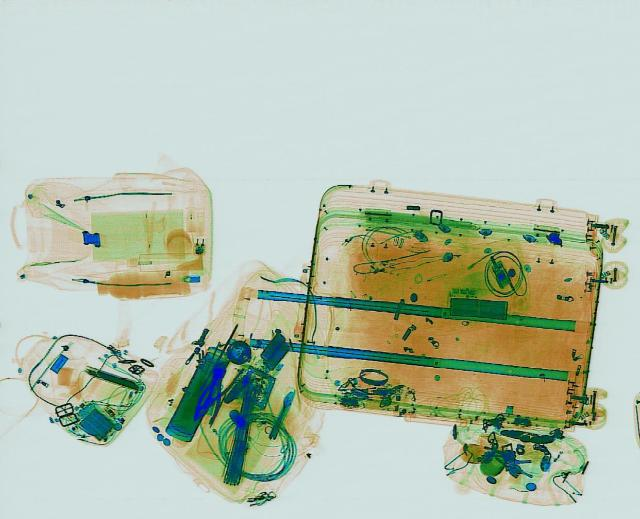Pliers: (181, 358, 243, 420), (190, 363, 230, 420)
